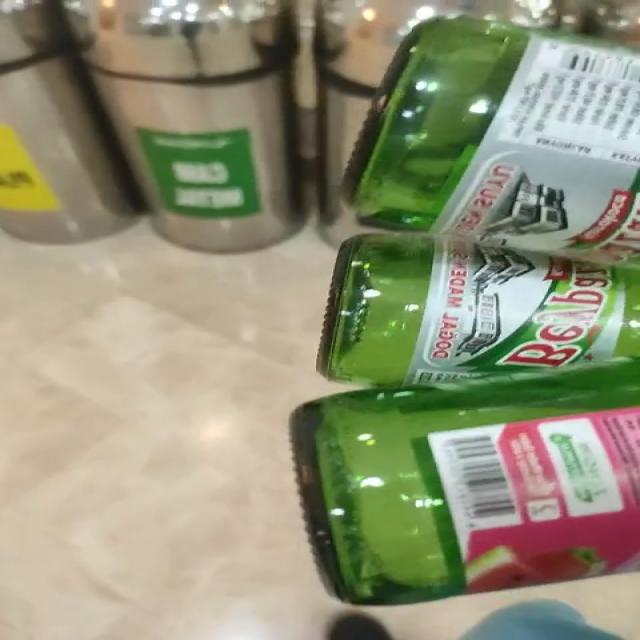glass: (291, 17, 640, 606)
